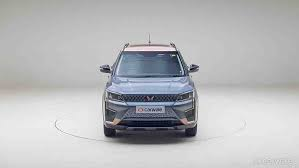XUV 400: (98, 31, 202, 139)
